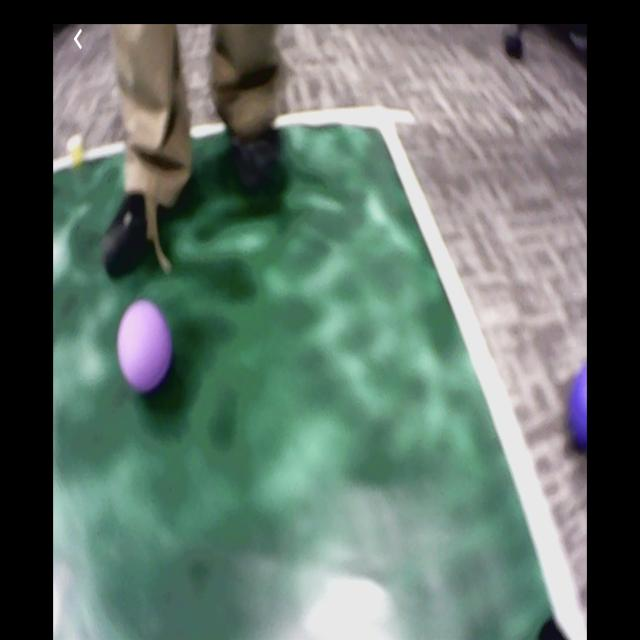ball: (119, 303, 173, 389), (569, 367, 588, 450)
